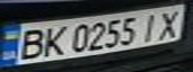0: (66, 20, 90, 54)
2: (87, 19, 109, 52)
5: (118, 13, 142, 46), (103, 17, 127, 48)
B: (9, 26, 48, 61)
I: (136, 10, 166, 42)
K: (36, 24, 69, 57)
X: (151, 7, 187, 39)
